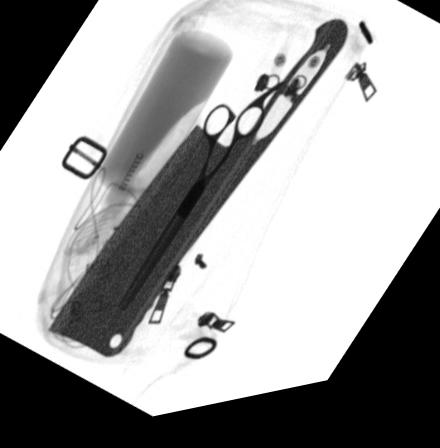Knife: (44, 30, 347, 363)
Scissors: (116, 89, 285, 317)
